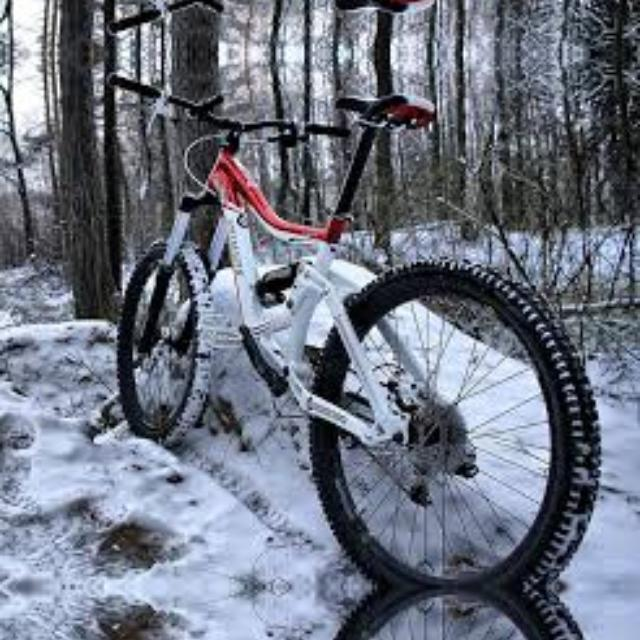obstacle: (114, 54, 602, 572), (114, 0, 601, 52), (114, 600, 601, 640)
